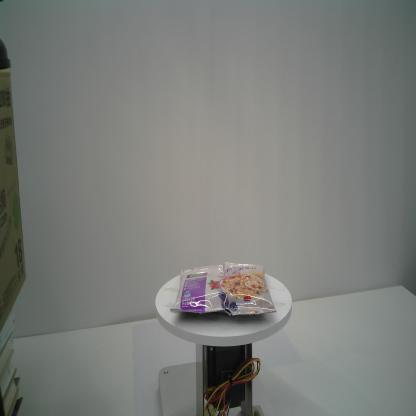Instant Drink: (169, 261, 277, 317)
